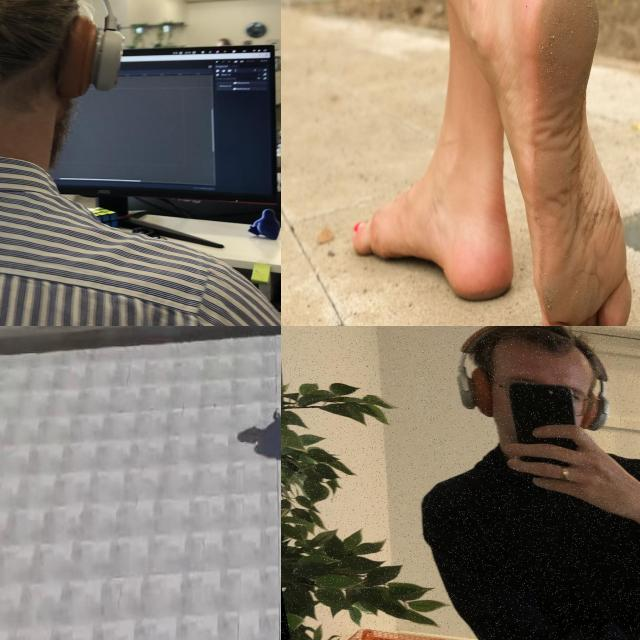Barefoots: (525, 0, 631, 326), (352, 181, 514, 302)
Ear-protection: (0, 0, 133, 147), (435, 364, 628, 434)
head_nohelmet: (451, 326, 609, 369)
person: (412, 326, 640, 640)
